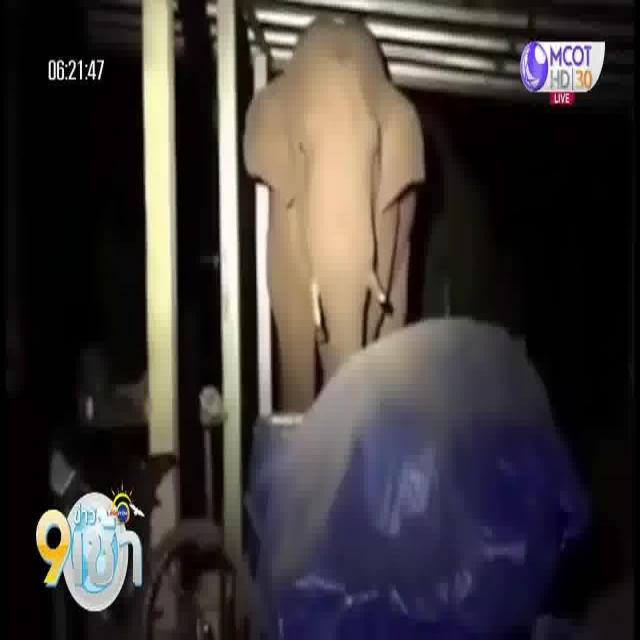Elephant: (249, 30, 414, 366)
